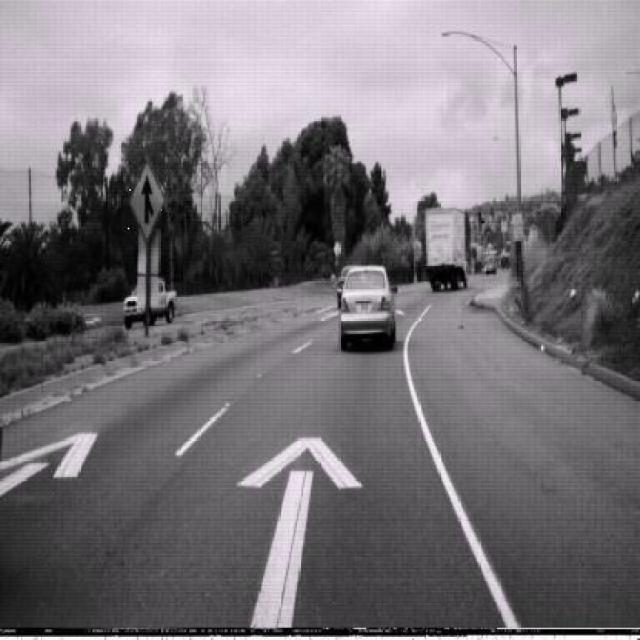merge: (128, 159, 166, 243)
